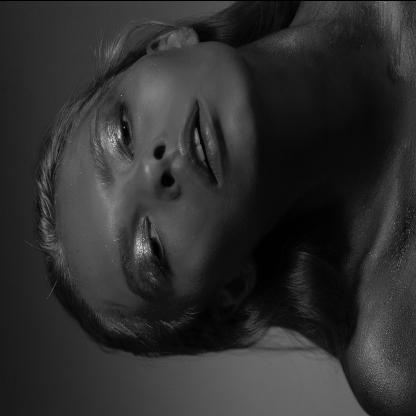Eye: (140, 214, 168, 276), (110, 100, 136, 158)
Mouth: (178, 96, 224, 188)
Nose: (128, 134, 179, 202)
